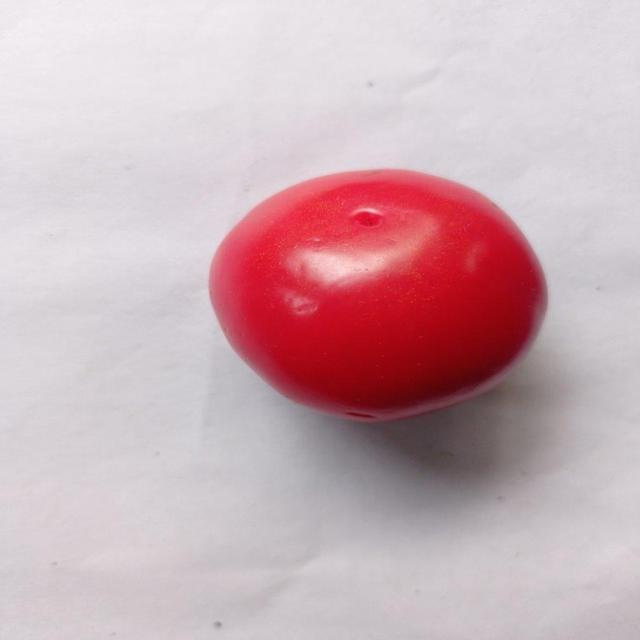Tomato: (203, 160, 558, 425)
